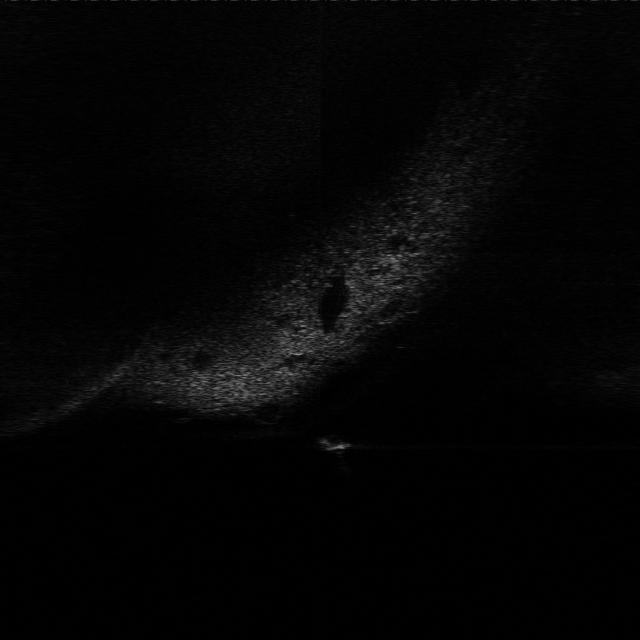cube: (313, 430, 362, 456)
